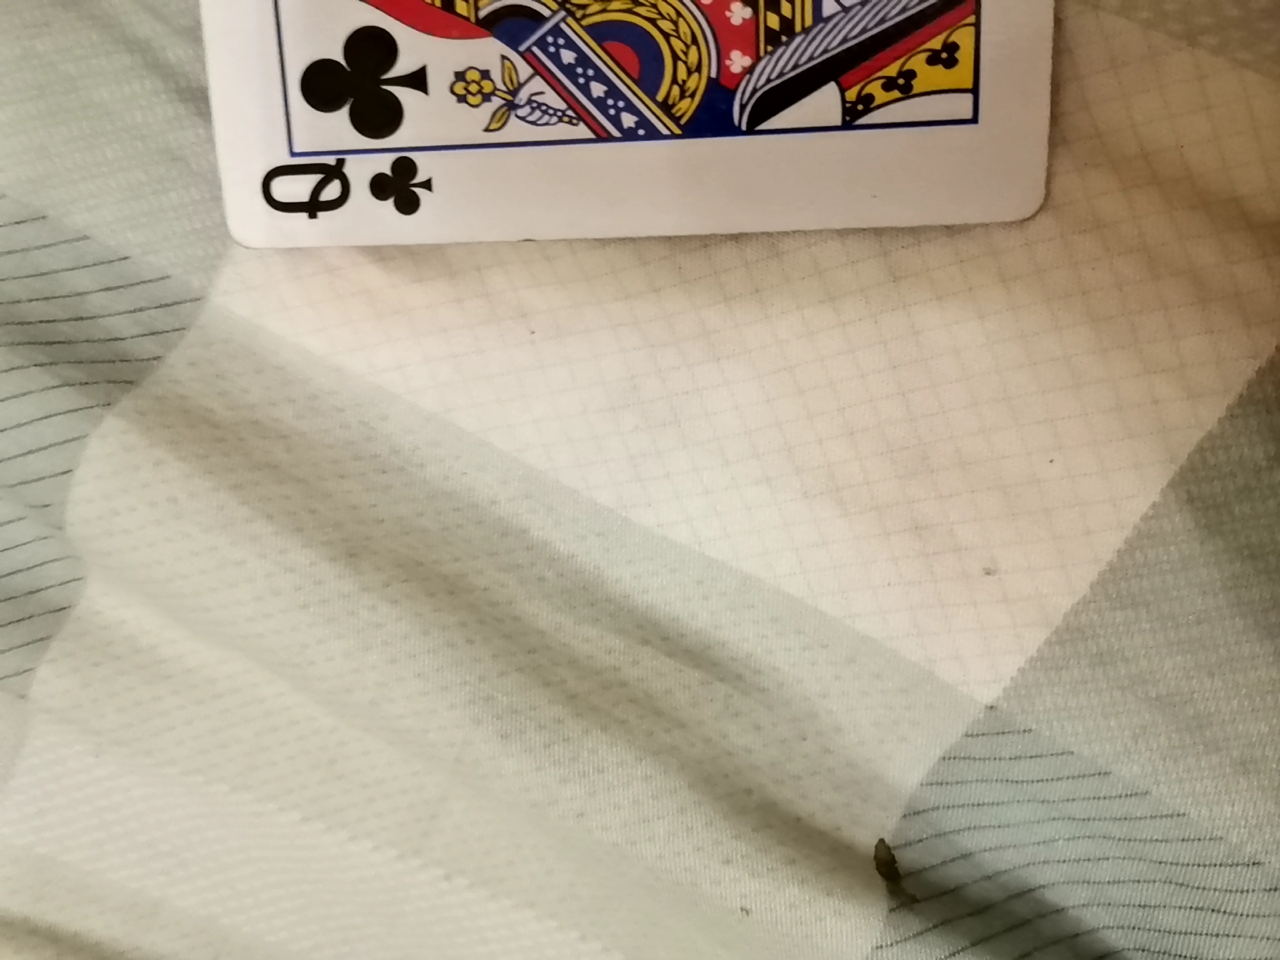mh q: (151, 0, 1083, 248)
